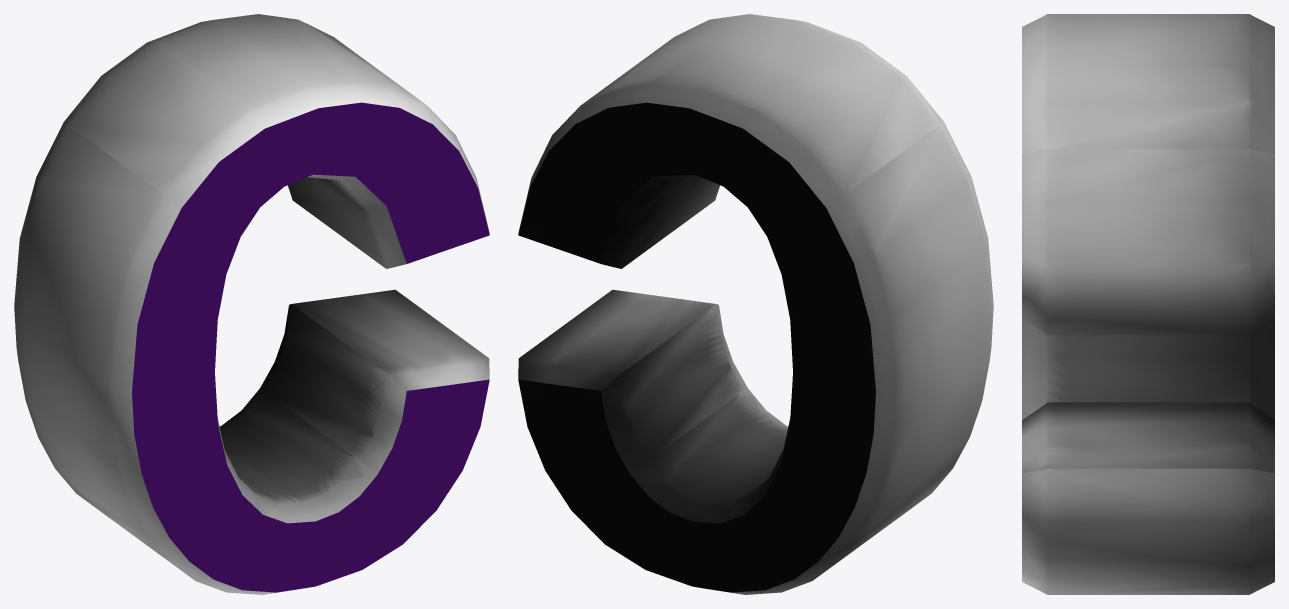
File: FrameMarker_C_textured.fbx
The picture shows the model from 3 angles, left to right: view 1: azimuth 30°, elevation 25°; view 2: azimuth 150°, elevation 25°; view 3: azimuth 270°, elevation 25°; orthographic projection. The views are drawn at different scales.
Visible parts, largest first — view 1: Frm0; view 2: Frm0; view 3: Frm0.
Boxes of the visible parts, left/top/right/bottom form: Frm0: left=14, top=14, right=489, bottom=594; Frm0: left=518, top=14, right=993, bottom=594; Frm0: left=1022, top=14, right=1274, bottom=594.
Size of the model in its own units: 1.83 by 2.3 by 0.9831.
